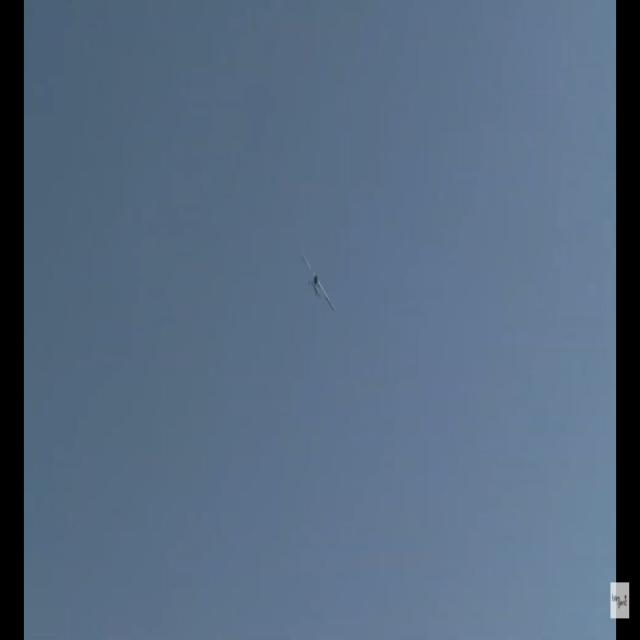iha: (300, 251, 336, 313)
